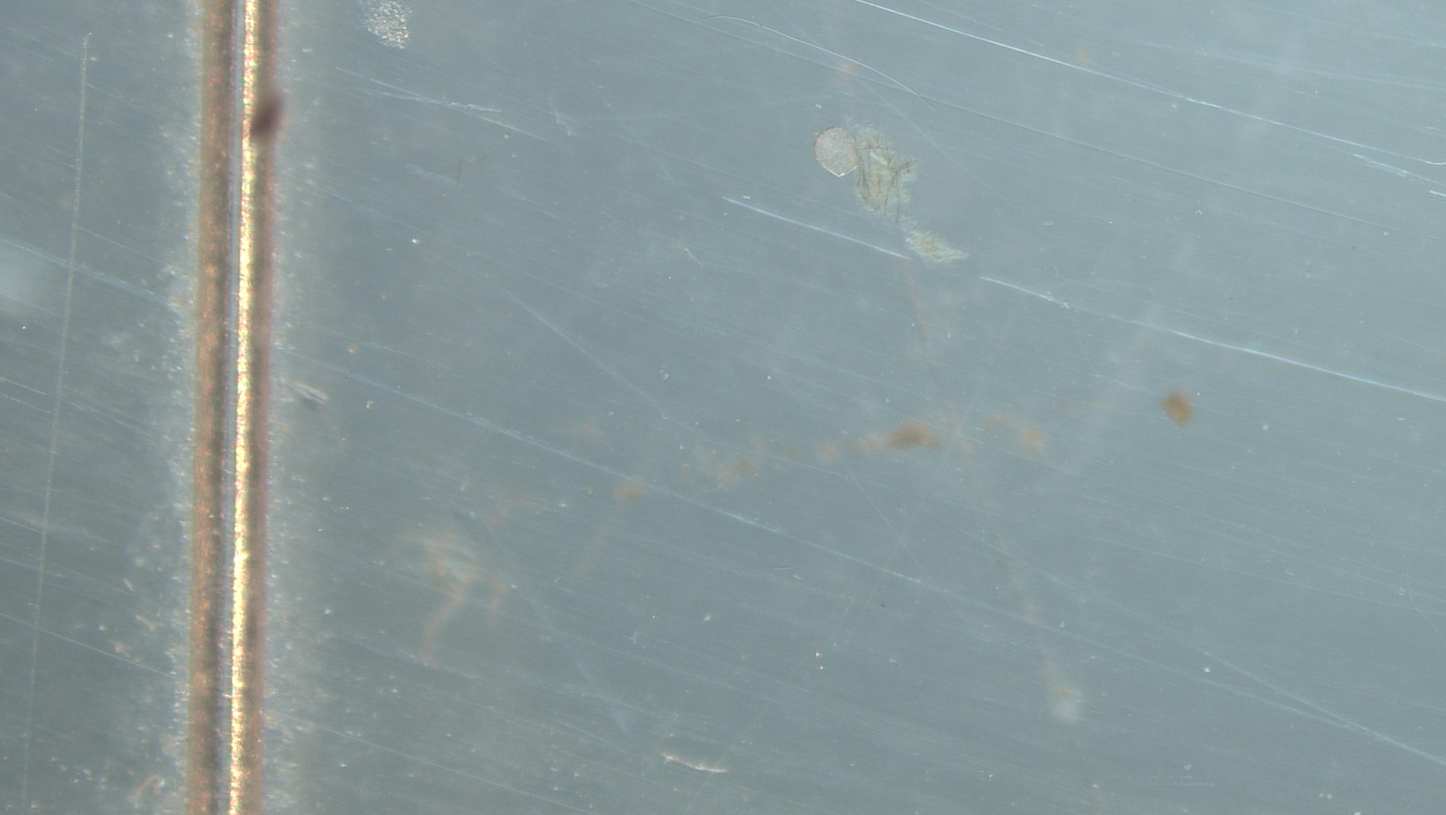dead: (813, 128, 859, 177)
